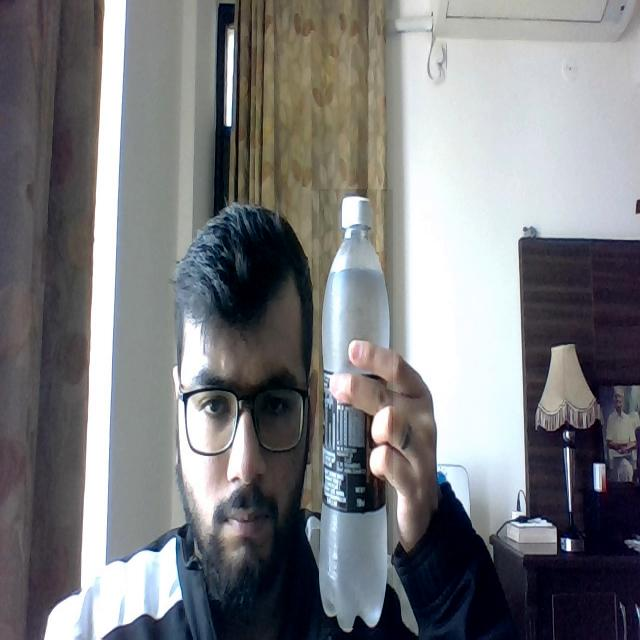full-bottle: (320, 189, 394, 628)
